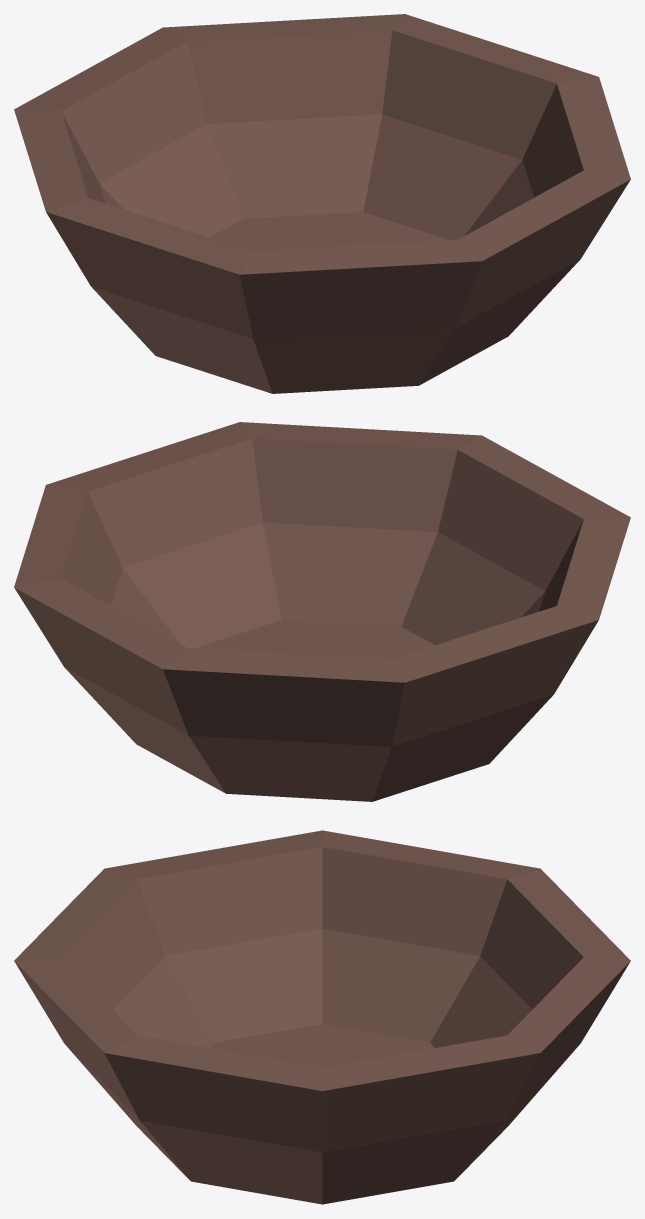
File: misa.fbx
3 views of the same model, one above another, from view 1: azimuth 30°, elevation 25°; view 2: azimuth 150°, elevation 25°; view 3: azimuth 270°, elevation 25° (orthographic). The views are drawn at different scales.
Parts seen in each view (by area): view 1: Cylinder; view 2: Cylinder; view 3: Cylinder.
Boxes of the visible parts, x1,y1,x2,y2 form: Cylinder: [14, 14, 630, 393]; Cylinder: [14, 422, 630, 801]; Cylinder: [14, 830, 630, 1204].
Size of the model in its own units: 335 by 101 by 335.
